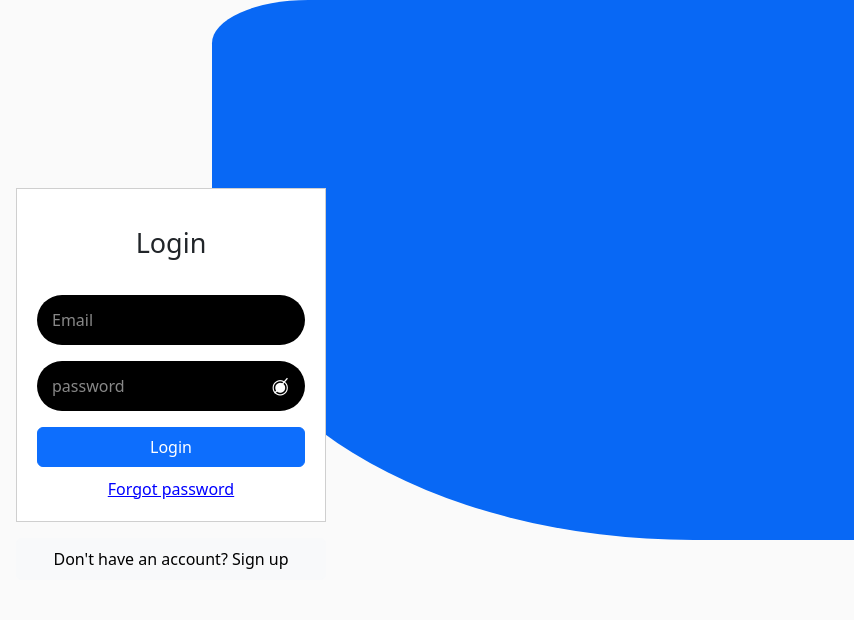
Test: Login Component › shows error when invalid login credentials are provided
Type "wrong@gmail.com" into the field with placeholder "Email" at (171, 320), box top-left (37, 295), bottom-right (305, 345)
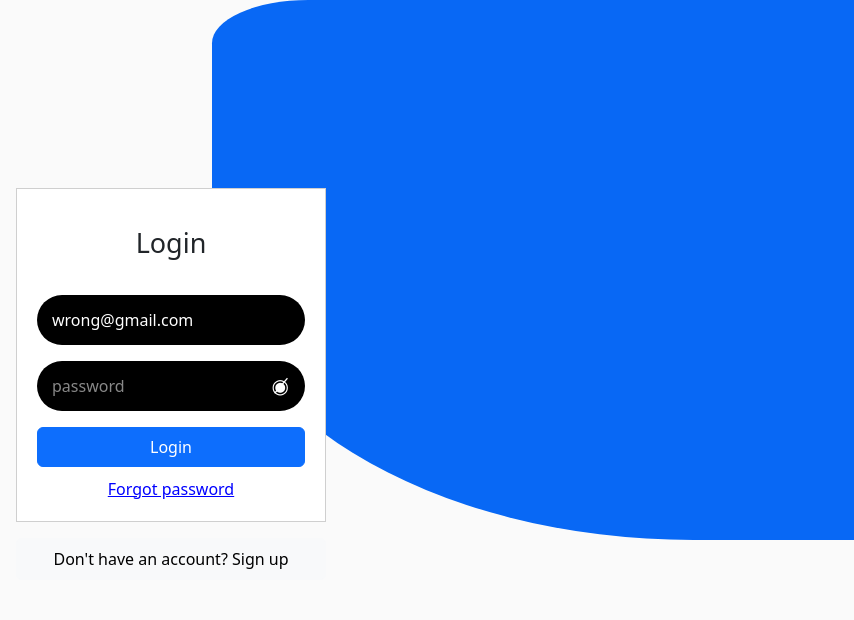
Type "wrongpassword" into the password field with placeholder "password" at (171, 386), box top-left (37, 361), bottom-right (305, 411)
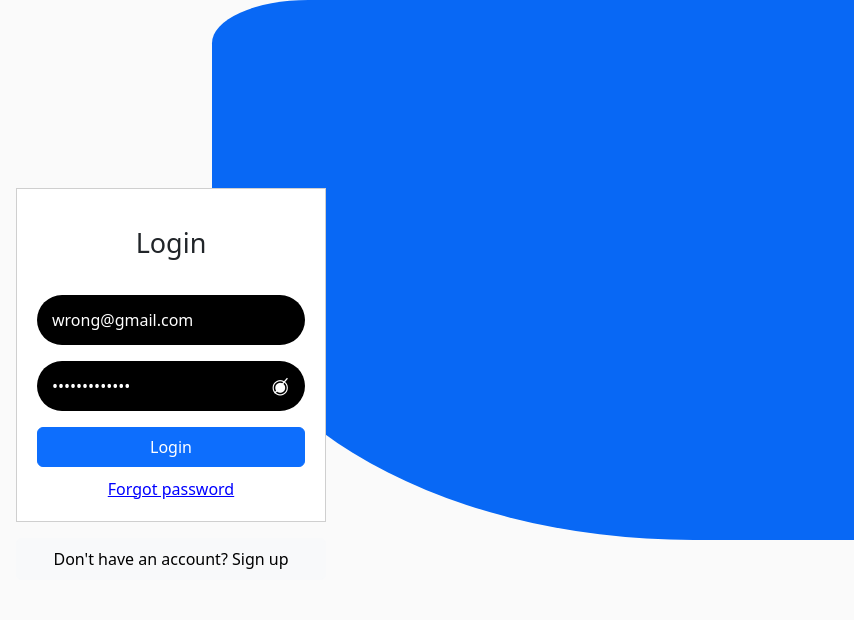
Click the button "Login" at (171, 447), box top-left (37, 427), bottom-right (305, 467)
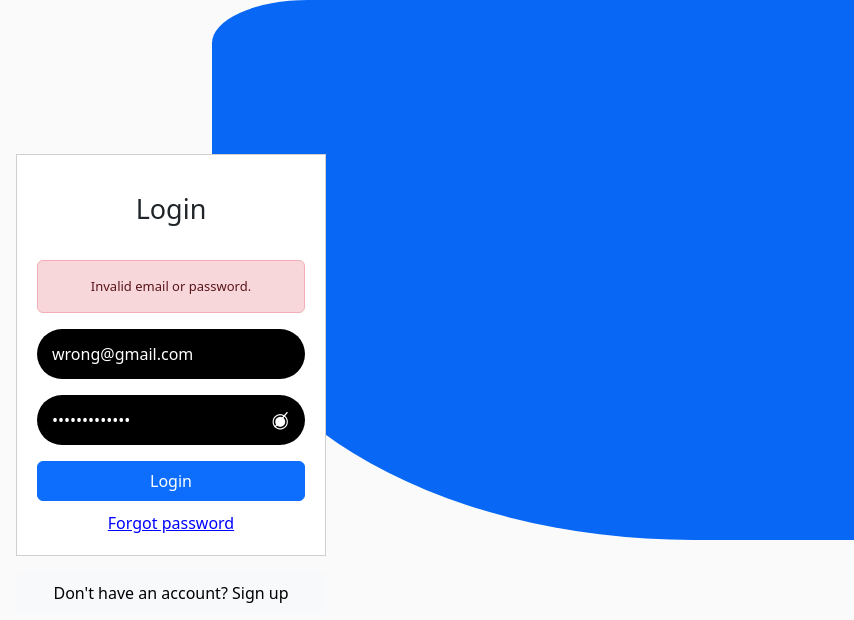
Check: the text "Invalid email or password." is shown, box top-left (37, 260), bottom-right (305, 313)
